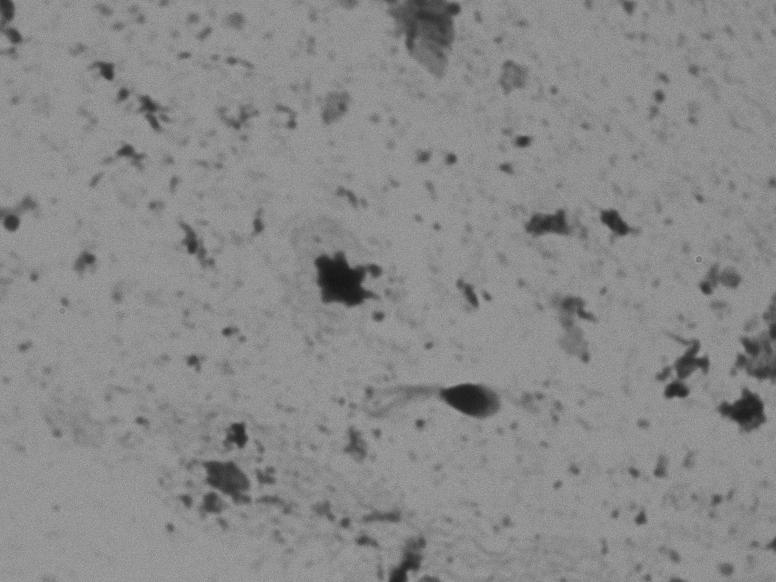Abnormal: (333, 350, 509, 451)
